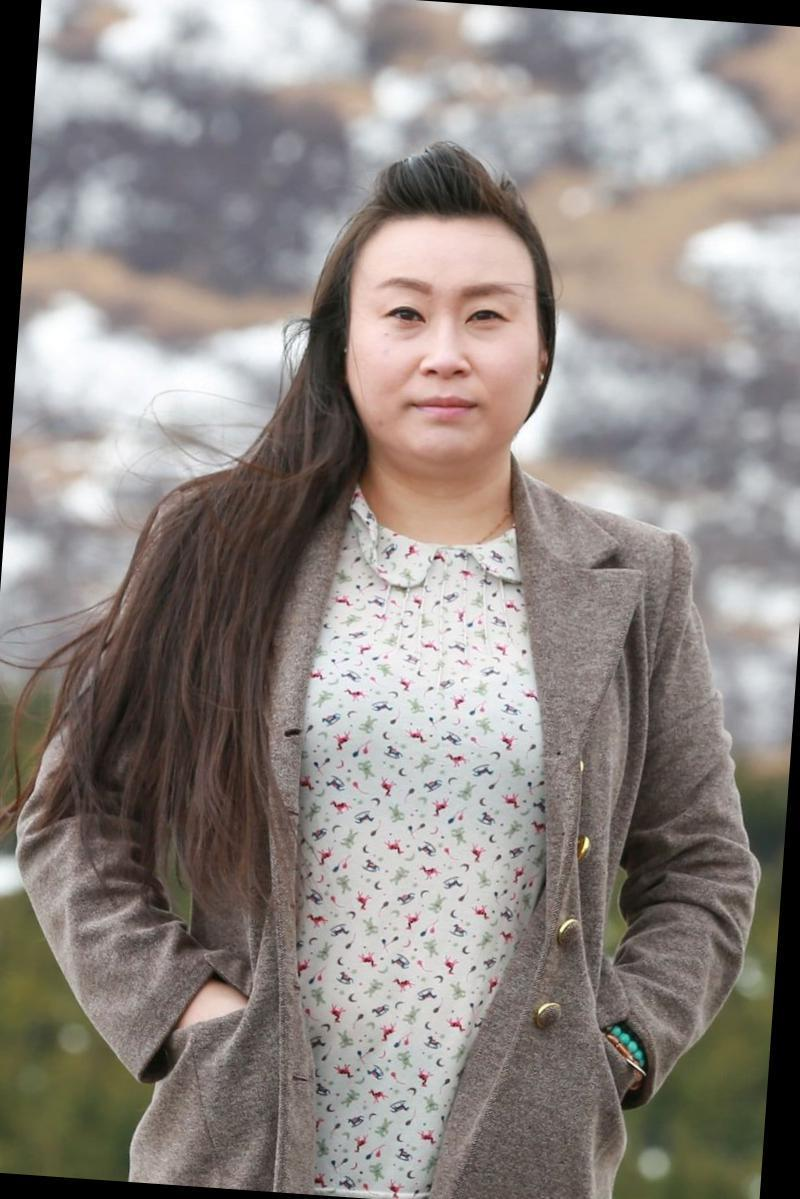Sober: (368, 218, 548, 456)
